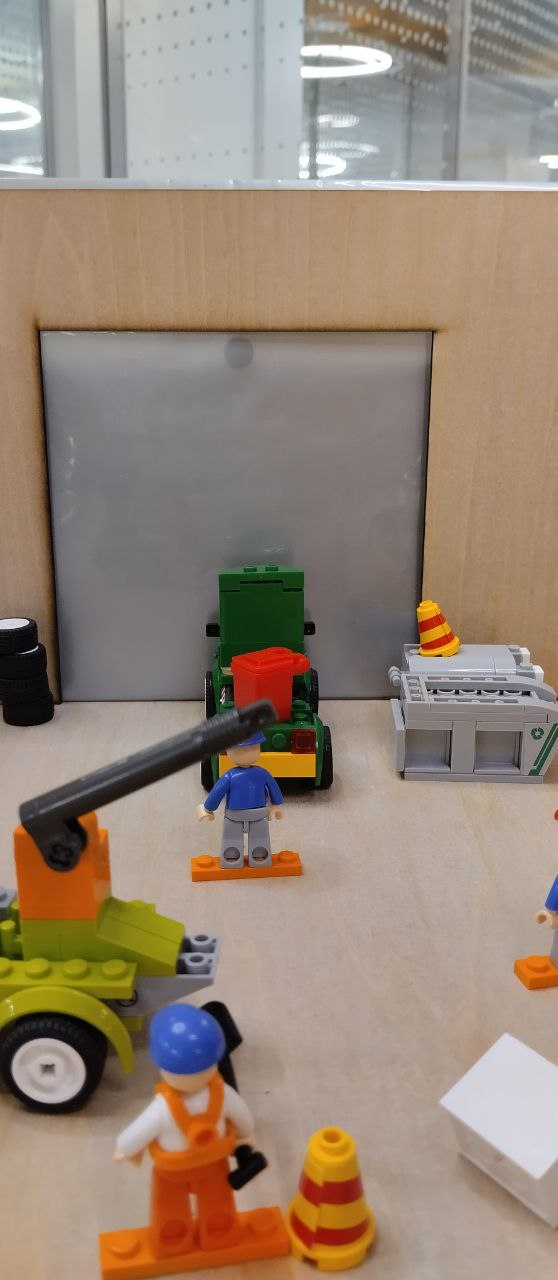Cone: (286, 1126, 374, 1268), (414, 596, 460, 657)
Crane: (1, 701, 272, 1114)
Object Red: (231, 642, 311, 724)
Object white: (436, 1032, 558, 1227)
Truck: (203, 561, 335, 793)
